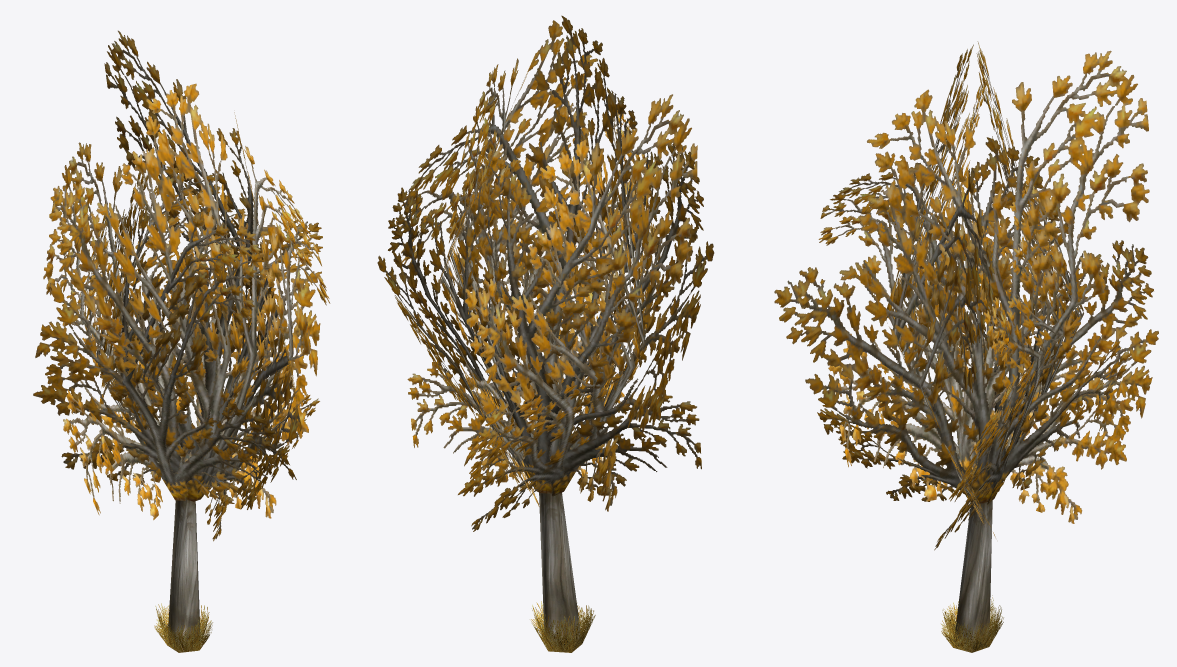
Rendered from westfalltree01.obj.
3 views of the same model, side by side, from view 1: azimuth 30°, elevation 25°; view 2: azimuth 150°, elevation 25°; view 3: azimuth 270°, elevation 25° (orthographic). The views are drawn at different scales.
Parts seen in each view (by area): view 1: Geoset0, Geoset1, Geoset2; view 2: Geoset0, Geoset1, Geoset2; view 3: Geoset0, Geoset1, Geoset2.
Part boxes in pixels (<box>): Geoset0: <box>33,30,330,541</box>; Geoset1: <box>167,499,200,652</box>; Geoset2: <box>154,603,212,652</box>; Geoset0: <box>377,15,714,531</box>; Geoset1: <box>539,492,581,652</box>; Geoset2: <box>531,601,595,652</box>; Geoset0: <box>774,41,1158,550</box>; Geoset1: <box>953,500,992,652</box>; Geoset2: <box>941,595,1003,652</box>.
Size of the model in its own units: 11.47 by 21.41 by 13.46.
Materials: 3 (3 with a texture image).
